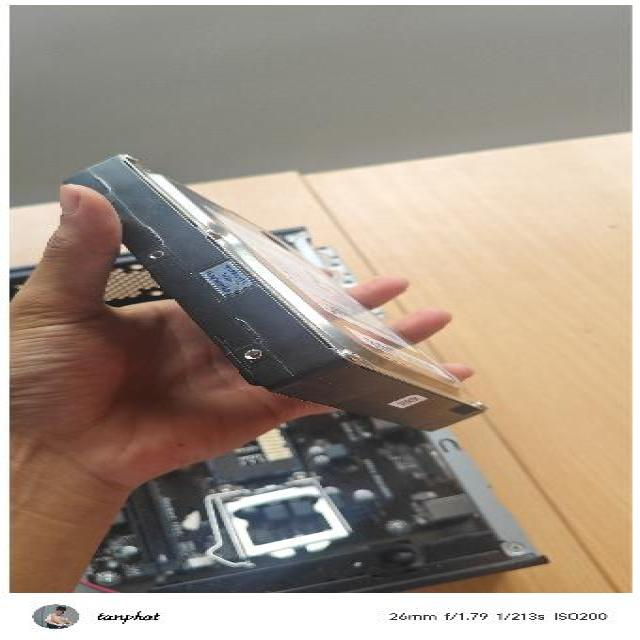DISK: (52, 153, 488, 434)
